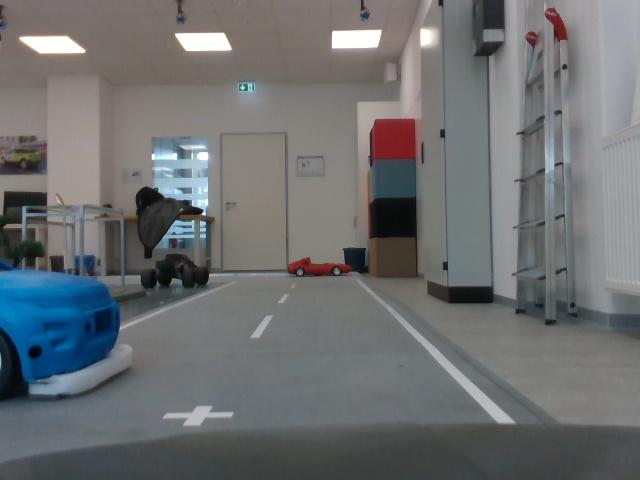car: (1, 256, 141, 399), (145, 254, 216, 292), (284, 253, 358, 281)
potted plant: (1, 211, 47, 262)
